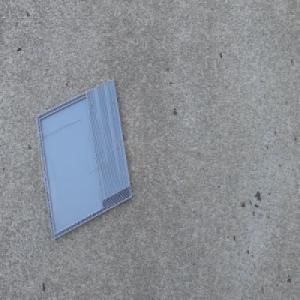PlasticPart: (35, 77, 133, 241)
